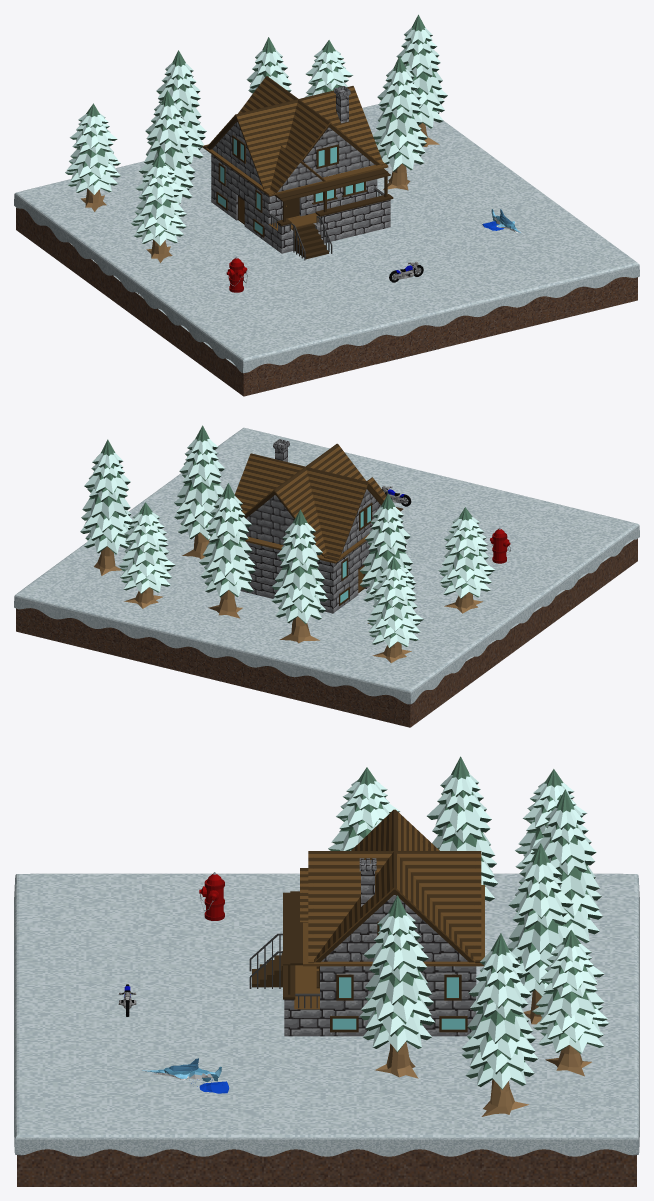
3 renders of one model, top to bottom at view 1: azimuth 30°, elevation 25°; view 2: azimuth 150°, elevation 25°; view 3: azimuth 270°, elevation 25°, orthographic. The views are drawn at different scales.
Visible parts, largest first — view 1: Cube.003, Cube.586, OBJRANDOM_FIRE_HYDRANT; view 2: Cube.003, Cube.586, OBJRANDOM_FIRE_HYDRANT; view 3: Cube.003, Cube.586, ANIMAL_PEZ_ESPADA, OBJRANDOM_FIRE_HYDRANT.
Part boxes in pixels (x1,y1,x2,y2): Cube.003: [14, 14, 639, 396]; Cube.586: [202, 76, 393, 260]; OBJRANDOM_FIRE_HYDRANT: [226, 256, 247, 292]; Cube.003: [14, 425, 639, 727]; Cube.586: [234, 439, 405, 613]; OBJRANDOM_FIRE_HYDRANT: [490, 527, 510, 563]; Cube.003: [14, 756, 639, 1186]; Cube.586: [249, 809, 484, 1036]; ANIMAL_PEZ_ESPADA: [142, 1058, 229, 1093]; OBJRANDOM_FIRE_HYDRANT: [199, 872, 224, 920].
Size of the model in its own units: 4040 by 1692 by 4040.
Materials: 32 (4 with a texture image).
